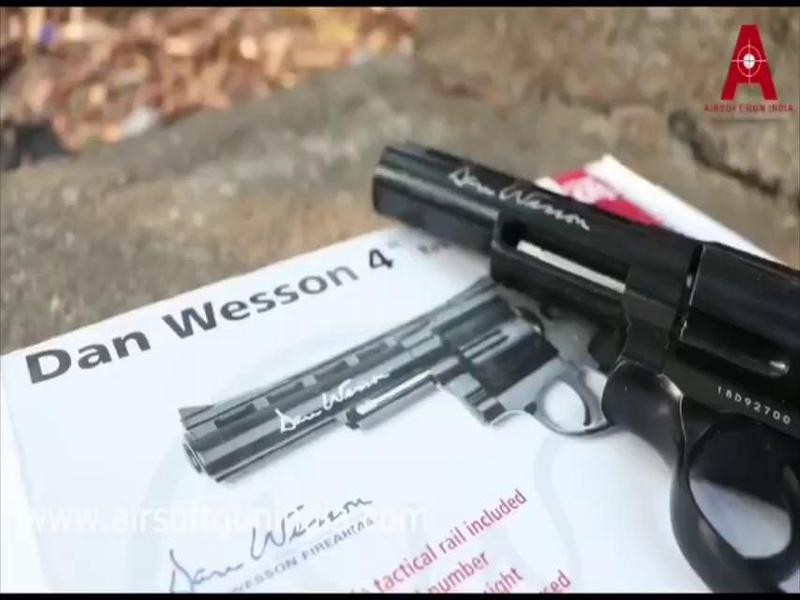Revolver: (359, 117, 800, 591)
